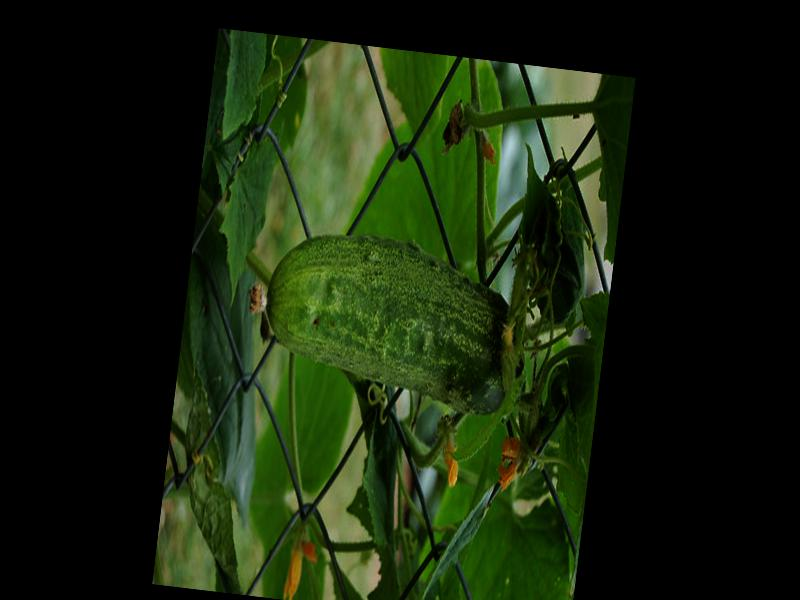Cucumber: (241, 226, 534, 414)
